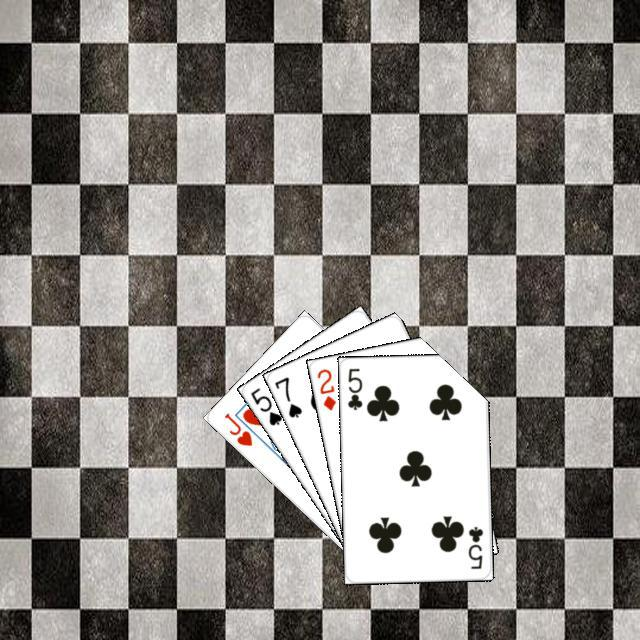2d: (312, 364, 338, 412)
5c: (343, 363, 364, 412), (464, 522, 485, 571)
5s: (246, 383, 284, 427)
7s: (270, 372, 304, 419)
Jh: (219, 408, 254, 448)
